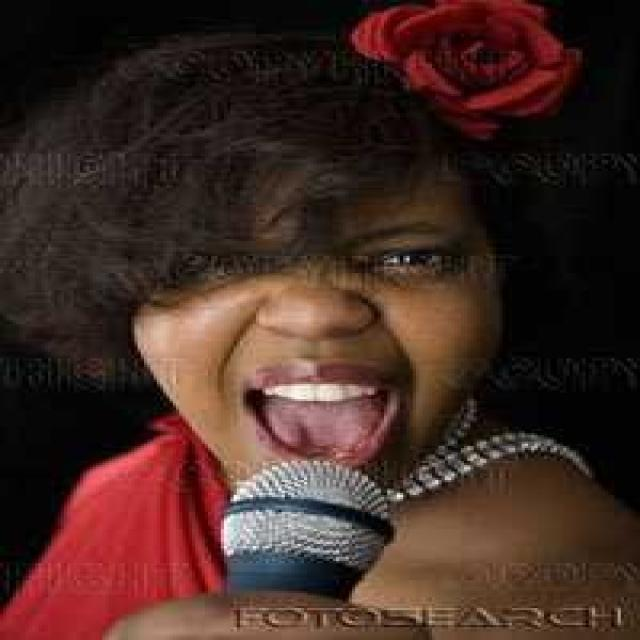microphone: (220, 461, 396, 597)
